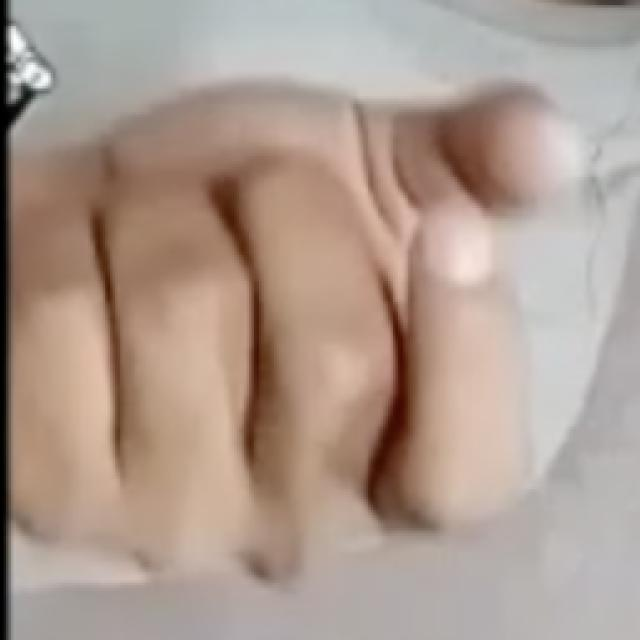Q: (11, 68, 600, 600)
